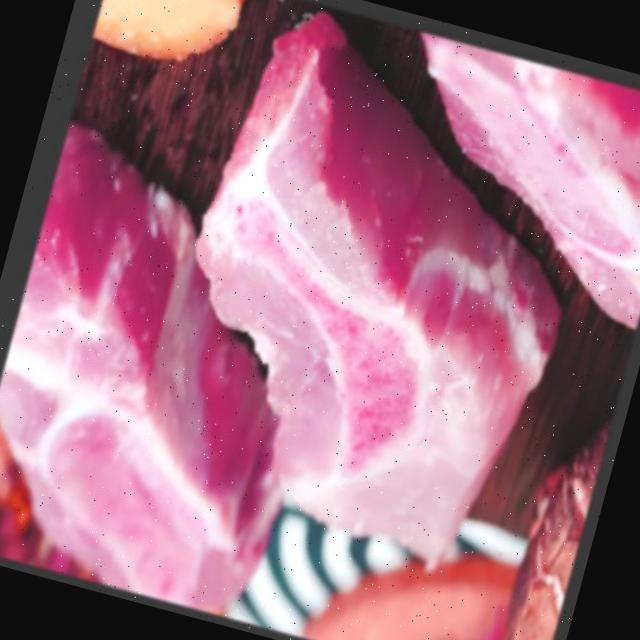pork: (190, 16, 563, 556), (0, 123, 278, 593), (417, 35, 640, 324)
